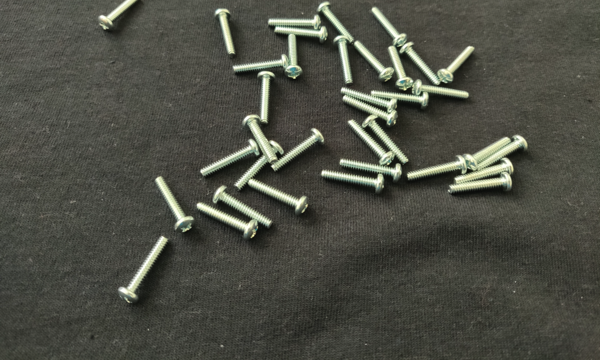longscrew: (117, 236, 169, 306), (212, 185, 274, 230), (233, 140, 285, 191), (270, 128, 326, 173), (196, 202, 259, 241), (361, 115, 410, 165), (200, 139, 261, 178), (346, 119, 395, 167), (247, 178, 310, 215), (155, 176, 195, 234), (477, 134, 530, 171), (399, 42, 442, 87), (462, 136, 513, 172), (342, 96, 399, 128), (242, 115, 278, 164), (353, 40, 394, 83), (317, 1, 356, 46), (454, 158, 516, 185), (321, 169, 387, 194), (407, 155, 469, 181), (437, 44, 476, 85), (340, 157, 403, 182), (340, 87, 398, 114), (372, 6, 407, 49), (97, 0, 141, 33), (448, 172, 514, 194), (412, 78, 470, 101), (214, 8, 238, 59), (387, 45, 413, 91), (371, 90, 430, 110), (232, 54, 290, 74), (256, 71, 277, 126), (332, 35, 354, 86), (274, 25, 329, 44), (268, 14, 322, 33), (284, 34, 303, 80)
